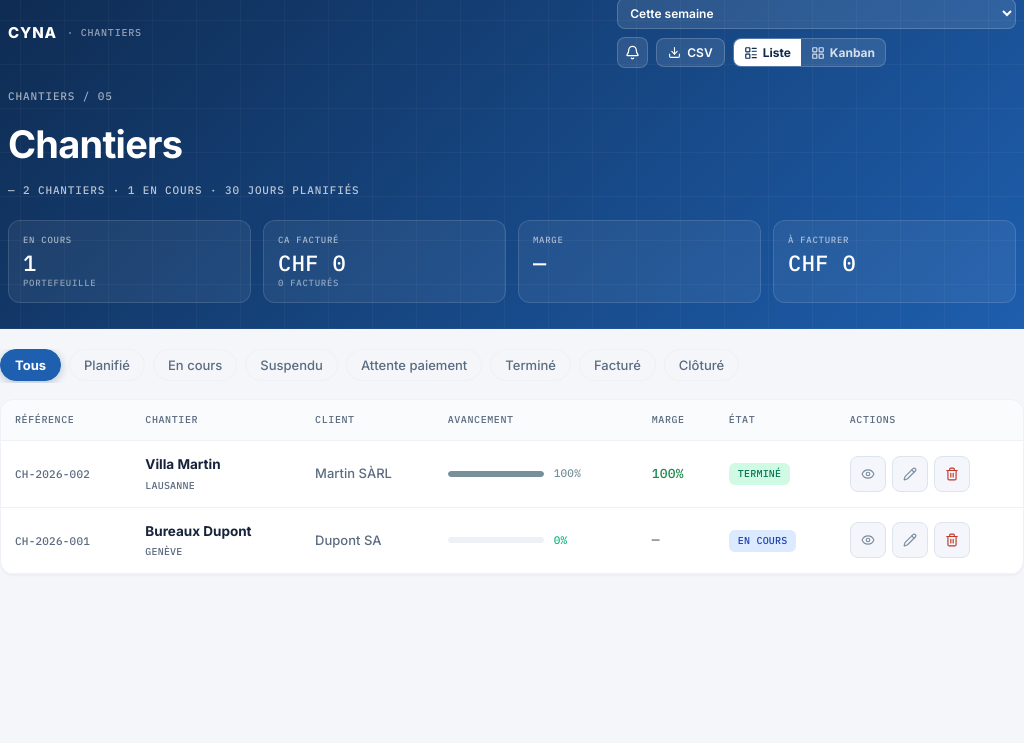
Test: ChantiersPage — édition › nombreJours guard form : saisir 0 → clampé au min (1)
The image size is (1024, 743).
Click the button titled "Modifier" in the row of "CH-2026-001": [910, 540] box [892,522,928,558]
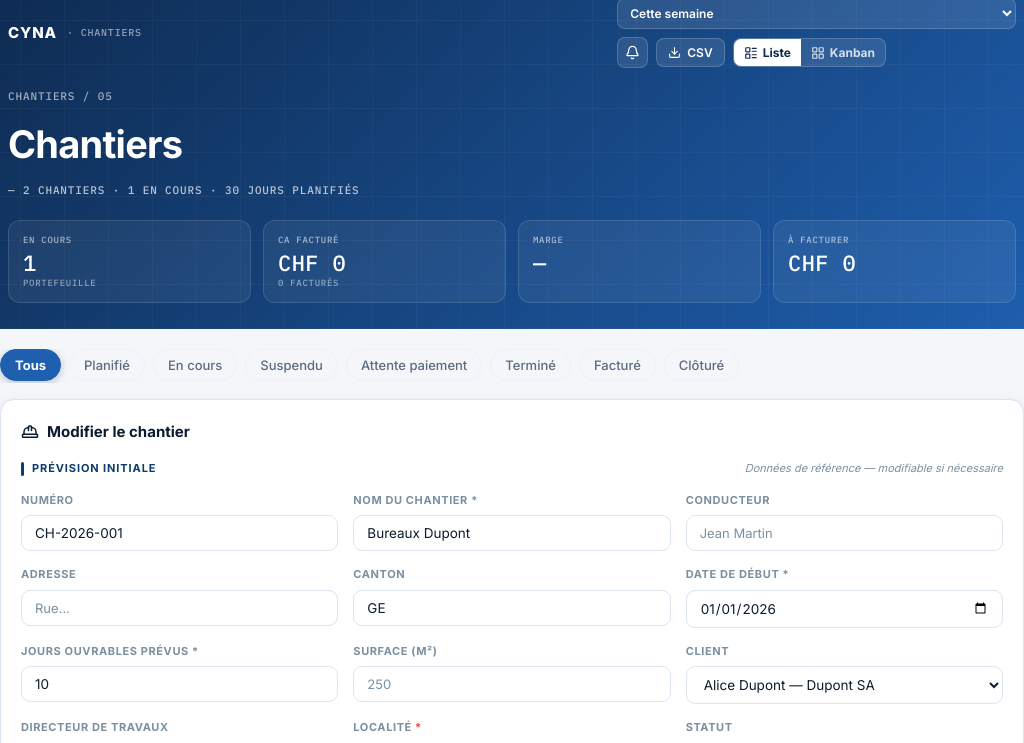
Replace the text in the number field showing "10" with "0": [180, 684] box [21,666,338,702]
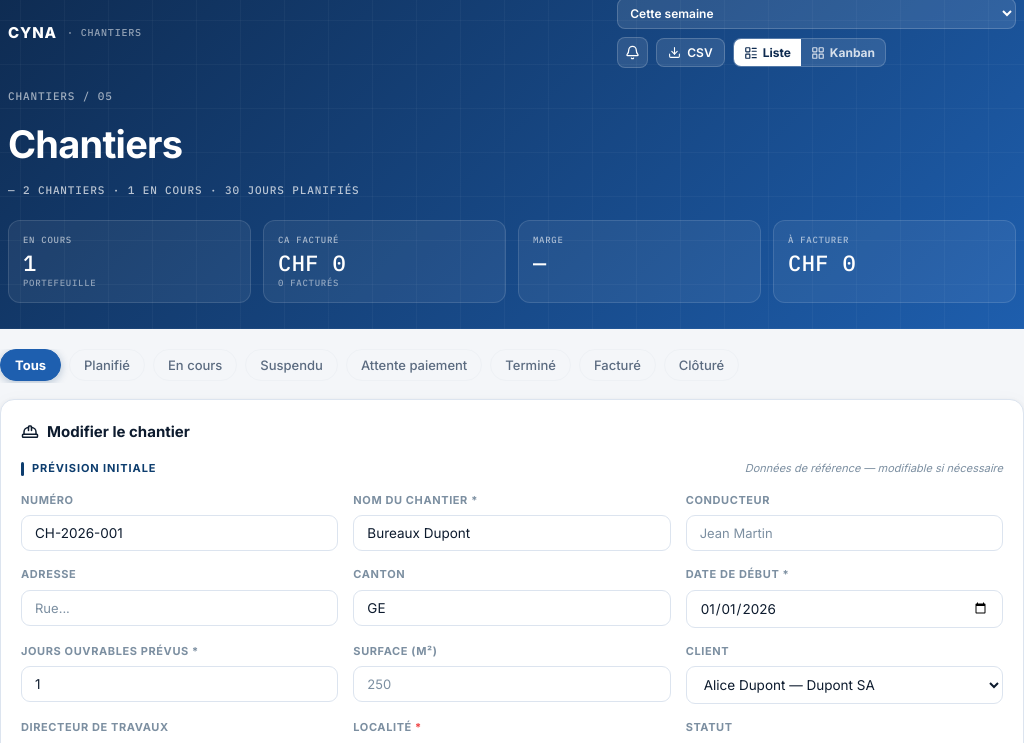
Now the number field showing "10" holds "1", box [21,666,338,702]
